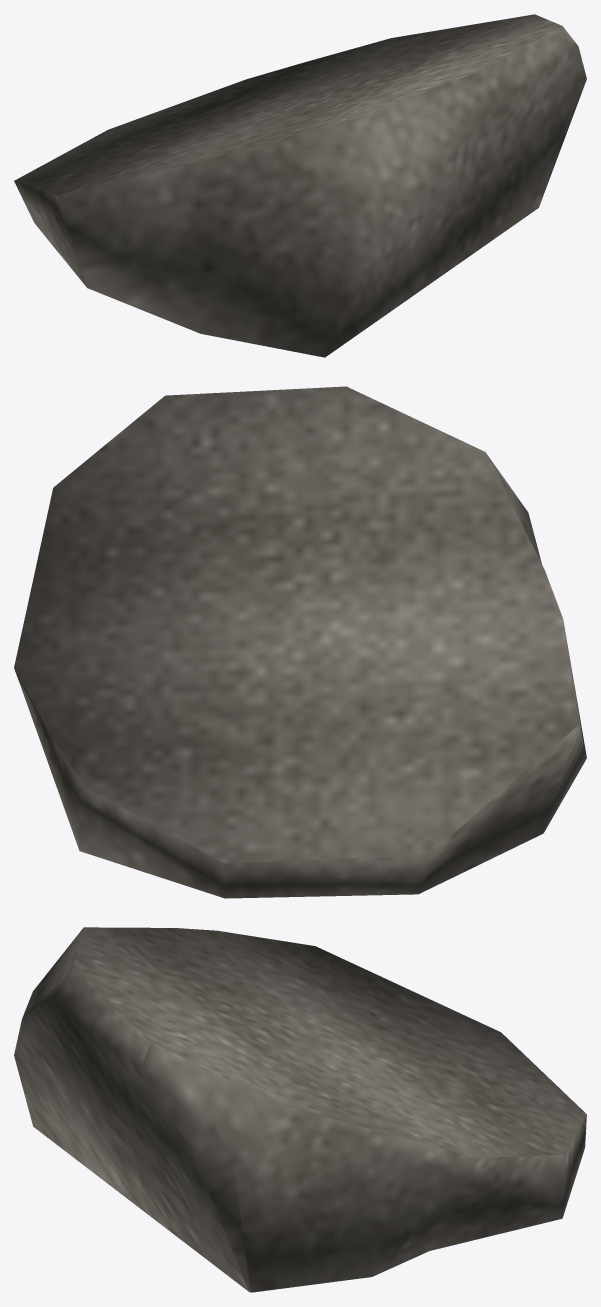
The model's file is rock_spire_0.glb.
The picture shows the model from 3 angles, top to bottom: view 1: azimuth 30°, elevation 25°; view 2: azimuth 150°, elevation 25°; view 3: azimuth 270°, elevation 25°; orthographic projection. The views are drawn at different scales.
Parts seen in each view (by area): view 1: rock_spire_0; view 2: rock_spire_0; view 3: rock_spire_0.
Boxes of the visible parts, x1,y1,x2,y2 form: rock_spire_0: (14, 14, 586, 357); rock_spire_0: (14, 386, 586, 898); rock_spire_0: (14, 927, 586, 1292).
Size of the model in its own units: 2.79 by 1.3 by 2.71.
1 material, 1 textured.
